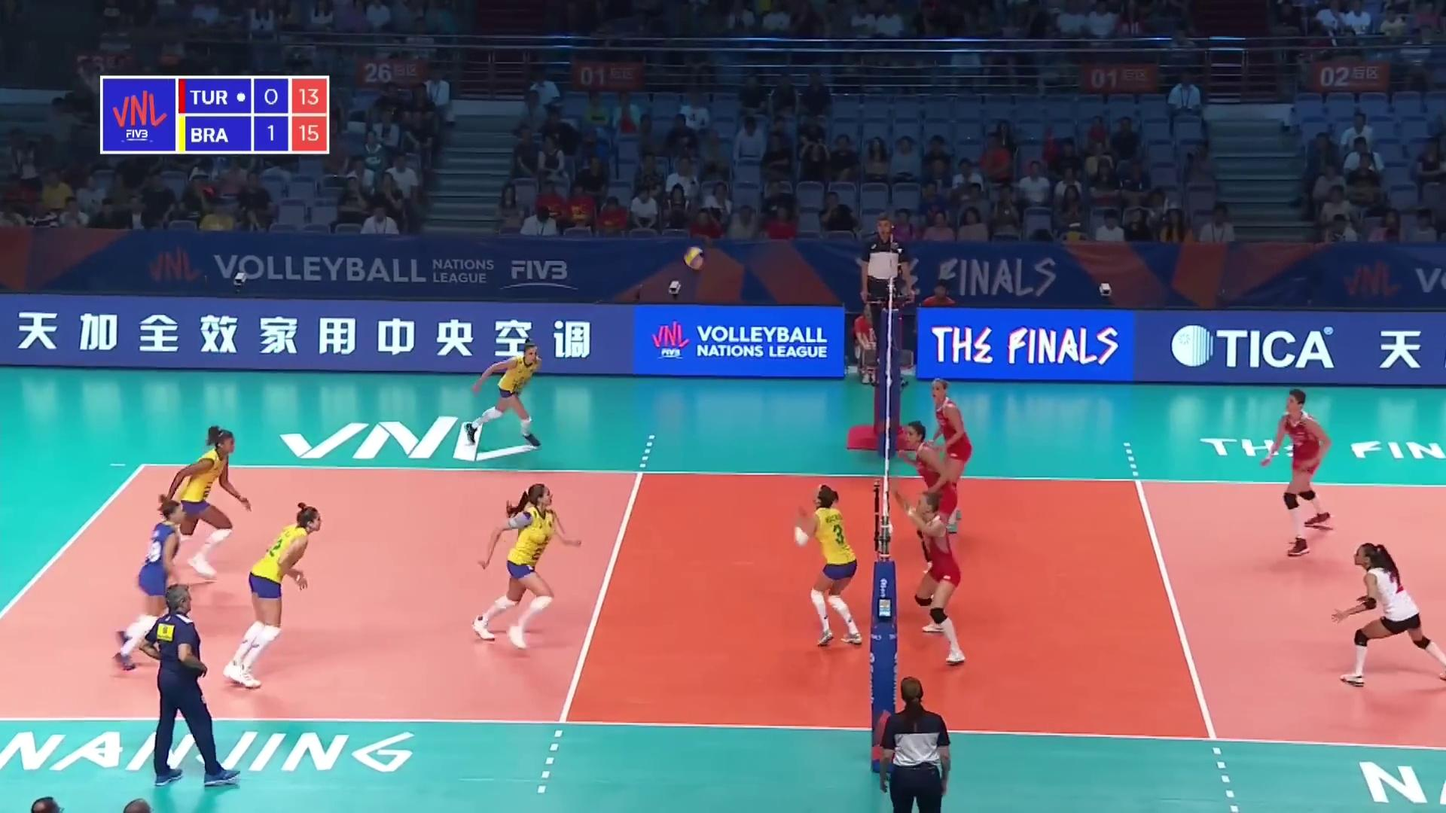player: (221, 504, 322, 691), (476, 480, 583, 648), (1332, 543, 1446, 689), (144, 430, 249, 575), (1256, 389, 1331, 557), (114, 498, 184, 671), (791, 483, 860, 648), (898, 487, 962, 664), (903, 423, 959, 575), (465, 341, 540, 448), (927, 378, 972, 531)
refree: (881, 678, 955, 813), (862, 213, 910, 368)
